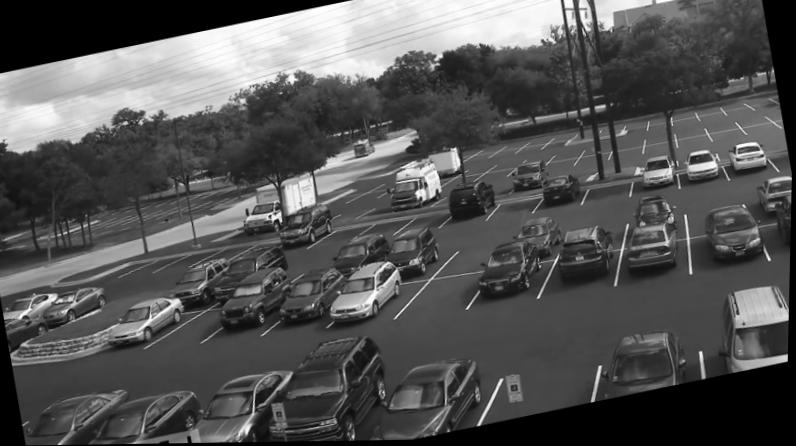empty: (484, 341, 603, 426), (395, 271, 480, 318), (151, 309, 223, 350), (450, 238, 496, 270), (580, 180, 633, 207), (688, 190, 739, 217), (123, 255, 190, 274), (313, 227, 368, 247), (161, 252, 215, 272), (492, 200, 540, 221), (361, 219, 414, 237), (286, 256, 327, 276), (352, 184, 396, 202), (581, 214, 623, 232), (675, 135, 714, 154), (405, 212, 448, 228), (708, 128, 746, 146), (608, 147, 648, 163), (572, 153, 612, 169), (209, 245, 254, 258), (705, 119, 739, 136), (758, 134, 788, 153), (645, 141, 678, 158), (742, 122, 779, 137), (546, 132, 577, 149), (584, 143, 618, 158), (646, 117, 675, 134), (445, 174, 482, 187), (476, 170, 514, 182), (643, 133, 677, 146), (553, 147, 587, 160), (720, 136, 749, 151), (674, 127, 707, 140), (614, 136, 644, 150), (769, 155, 792, 173), (519, 140, 548, 154), (526, 150, 557, 163), (463, 161, 496, 173), (671, 112, 699, 126), (735, 115, 766, 127), (492, 158, 525, 169), (548, 158, 580, 169), (623, 121, 650, 134), (749, 100, 775, 113), (485, 182, 513, 194), (495, 145, 522, 157), (468, 150, 499, 160), (699, 109, 722, 122), (724, 106, 750, 117), (568, 171, 591, 182), (764, 111, 783, 120), (773, 120, 785, 130)
occupied: (268, 335, 396, 443), (367, 361, 494, 442), (184, 370, 297, 444), (714, 285, 791, 376), (89, 391, 203, 445), (611, 328, 686, 400), (26, 394, 129, 446), (331, 261, 413, 321), (221, 267, 294, 331), (277, 268, 350, 323), (479, 240, 546, 299), (109, 298, 186, 348), (556, 225, 619, 286), (703, 203, 763, 265), (275, 204, 334, 253), (333, 233, 397, 277), (391, 159, 444, 212), (627, 222, 678, 276), (42, 287, 106, 330), (174, 258, 228, 305), (388, 228, 441, 275), (220, 248, 287, 285), (449, 183, 498, 230), (518, 218, 562, 260), (6, 317, 51, 353), (730, 142, 768, 177), (545, 175, 582, 209), (770, 195, 792, 250), (758, 178, 793, 212), (510, 161, 548, 192), (642, 157, 675, 189), (687, 152, 720, 183), (641, 197, 673, 226)
